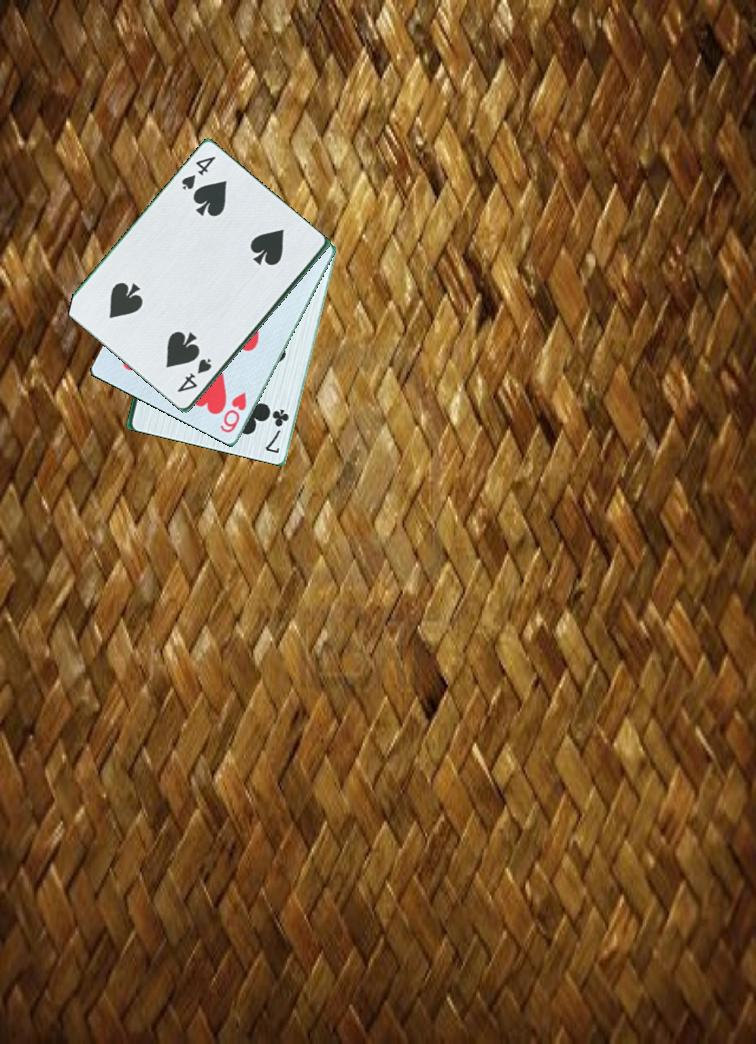4s: (178, 153, 218, 200), (174, 355, 215, 396)
6h: (217, 389, 250, 436)
7c: (262, 401, 292, 457)
